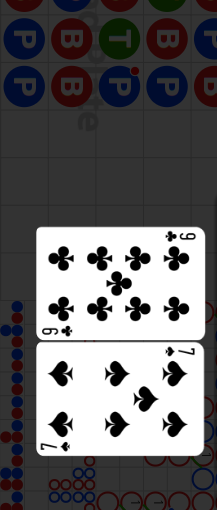7S: (40, 439, 73, 452)
